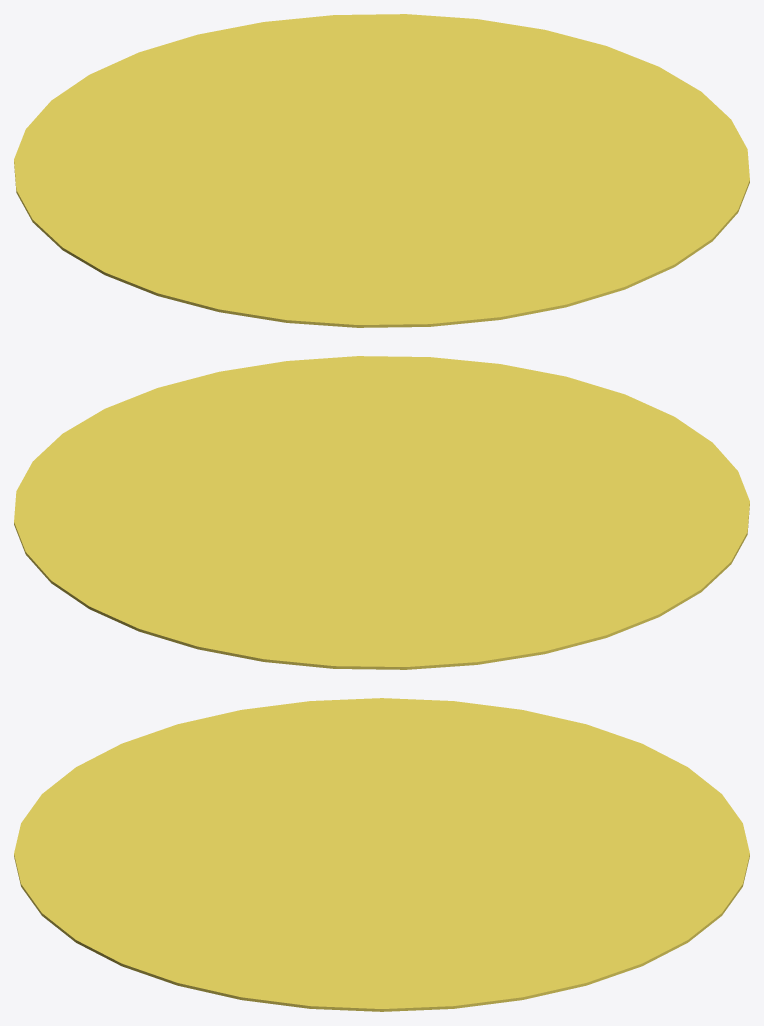
File: tovaglietta.fbx
3 views of the same model, one above another, from view 1: azimuth 30°, elevation 25°; view 2: azimuth 150°, elevation 25°; view 3: azimuth 270°, elevation 25° (orthographic).
Visible parts, largest first — view 1: Luna Rug Yellow; view 2: Luna Rug Yellow; view 3: Luna Rug Yellow.
Boxes of the visible parts, x1=… form: Luna Rug Yellow: x1=14, y1=14, x2=749, y2=327; Luna Rug Yellow: x1=14, y1=356, x2=749, y2=669; Luna Rug Yellow: x1=14, y1=698, x2=749, y2=1011.
Bounding box in the file's own units: 41.59 × 0.1733 × 41.59.
